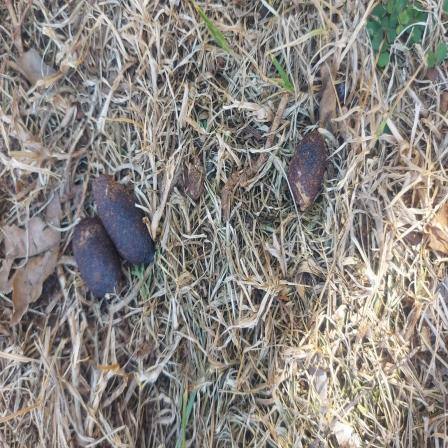dog-poop: (64, 145, 162, 323), (284, 116, 335, 219)
